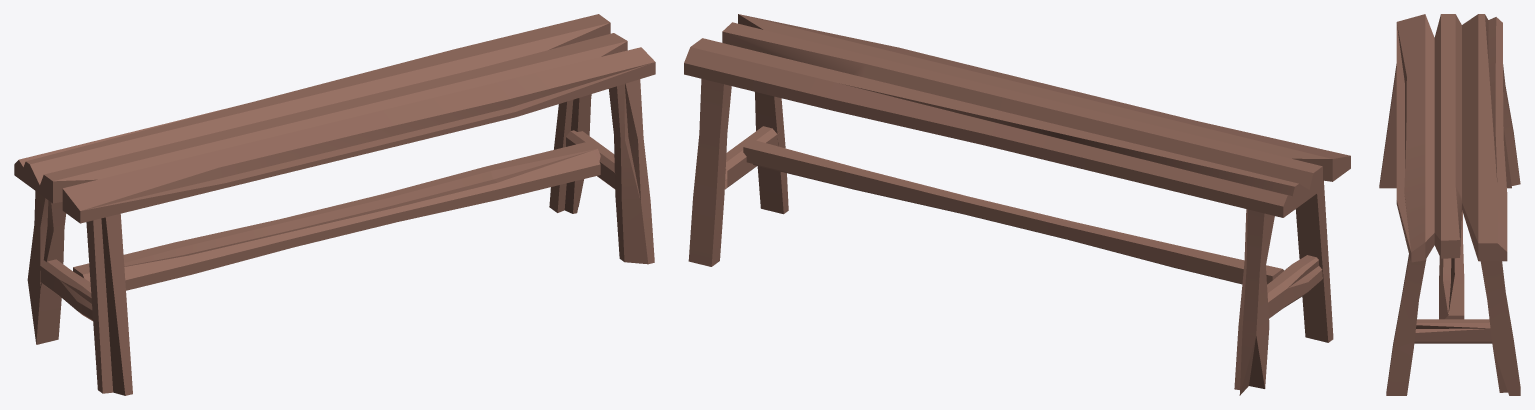
The model's file is SM_Wooden_Bench_02.fbx.
The picture shows the model from 3 angles, left to right: view 1: azimuth 30°, elevation 25°; view 2: azimuth 150°, elevation 25°; view 3: azimuth 270°, elevation 25°; orthographic projection. The views are drawn at different scales.
Parts seen in each view (by area): view 1: Wooden_Bench_02; view 2: Wooden_Bench_02; view 3: Wooden_Bench_02.
Boxes of the visible parts, x1,y1,x2,y2 form: Wooden_Bench_02: (14,14,655,395); Wooden_Bench_02: (684,14,1350,395); Wooden_Bench_02: (1379,14,1520,395).
Bounding box in the file's own units: 70.75 × 22.59 × 18.32.
